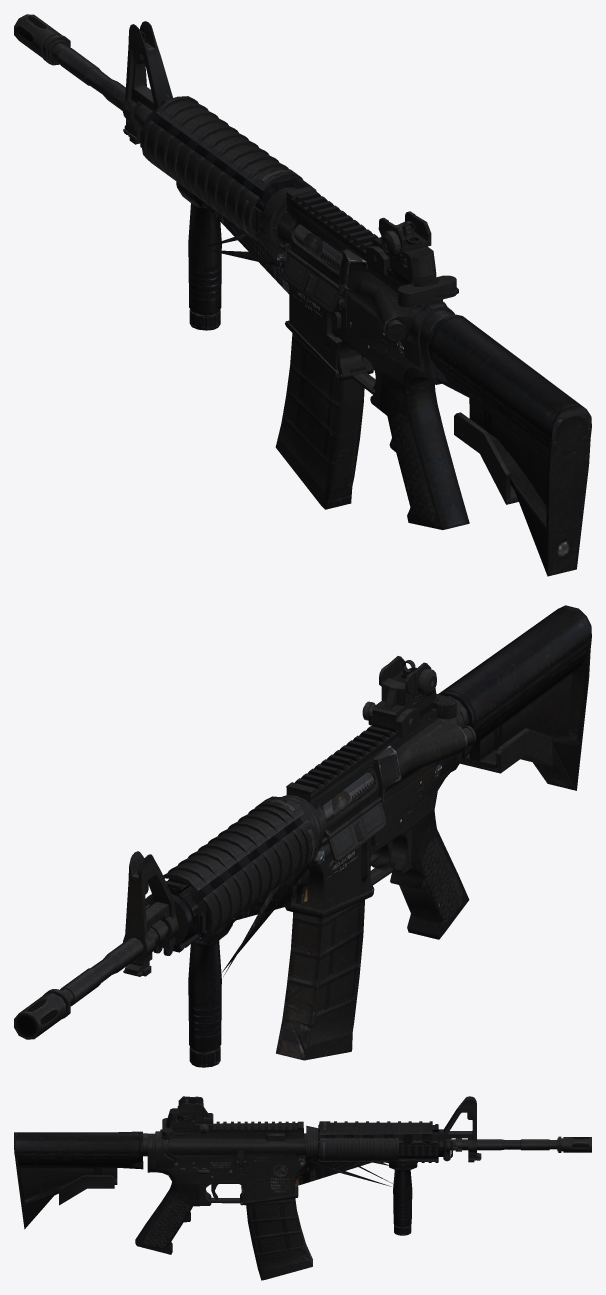
File: Custom_MAR_M4A1.obj
3 views of the same model, one above another, from view 1: azimuth 30°, elevation 25°; view 2: azimuth 150°, elevation 25°; view 3: azimuth 270°, elevation 25° (orthographic). The views are drawn at different scales.
Parts seen in each view (by area): view 1: Custom_MAR_M4A1; view 2: Custom_MAR_M4A1; view 3: Custom_MAR_M4A1.
Boxes of the visible parts, left/top/right/bottom form: Custom_MAR_M4A1: left=14, top=14, right=591, bottom=576; Custom_MAR_M4A1: left=14, top=605, right=591, bottom=1067; Custom_MAR_M4A1: left=14, top=1096, right=591, bottom=1280.
Size of the model in its own units: 7.65 by 30.78 by 89.89.
Materials: 1 (1 with a texture image).
